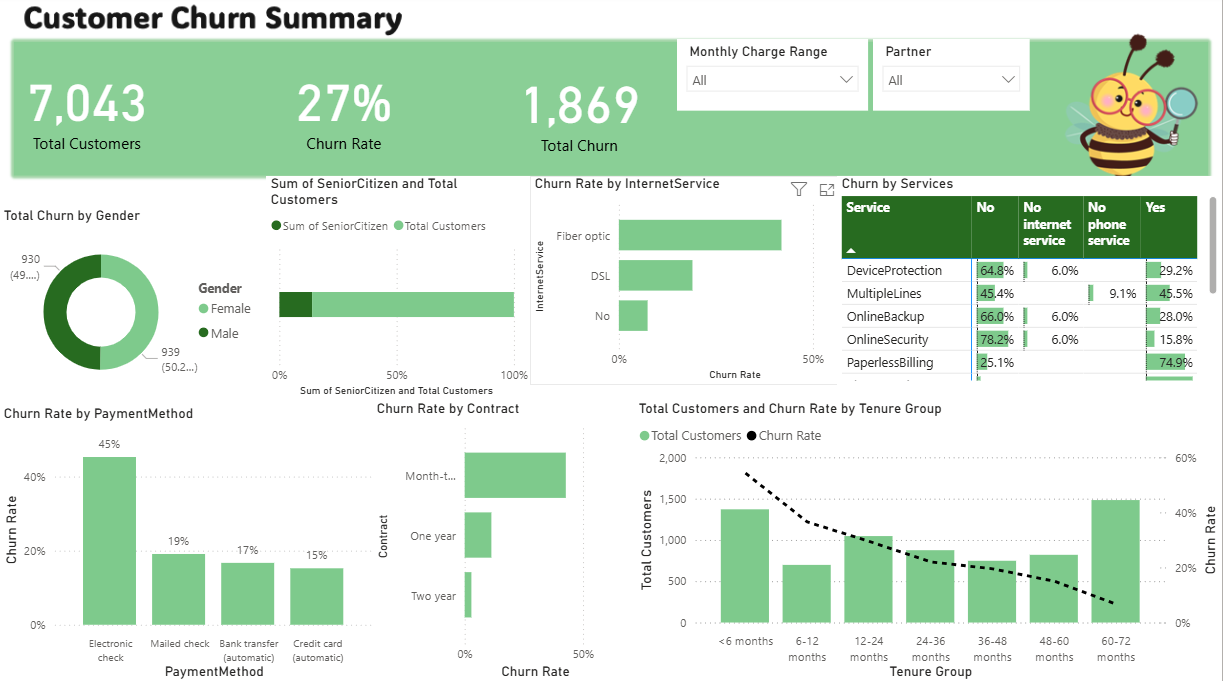

This screenshot's page, from the dashboard's own definition file:
{"tool":"powerbi","page":{"name":"Page 1","canvas":[1280,720],"ordinal":0},"visuals":[{"type":"card","fields":{"Values":["tbl_Measures.Total Churn"]},"box":[535.9,45,143.4,145.5],"z":0},{"type":"card","fields":{"Values":["tbl_Measures.Churn Rate"]},"box":[295.1,42.9,131.9,145.5],"z":1},{"type":"card","fields":{"Values":["tbl_Measures.Total Customers"]},"box":[12.6,42.9,159.1,145.5],"z":2},{"type":"donutChart","fields":{"Category":["Customer_Churn.gender"],"Y":["tbl_Measures.Total Churn"]},"box":[0,221.9,279.4,202],"z":3},{"type":"hundredPercentStackedBarChart","fields":{"Y":["Sum(Customer_Churn.SeniorCitizen)","tbl_Measures.Total Customers"]},"box":[279.4,188.4,279.4,235.5],"z":4},{"type":"clusteredColumnChart","fields":{"Y":["tbl_Measures.Churn Rate"],"Category":["Customer_Churn.PaymentMethod"]},"box":[0,429.1,396.7,291],"z":5},{"type":"clusteredBarChart","fields":{"Category":["Customer_Churn.Contract"],"Y":["tbl_Measures.Churn Rate"]},"box":[390.4,423.9,262.7,296.2],"z":6},{"type":"lineStackedColumnComboChart","fields":{"Category":["mapping_tenureGrp.Tenure Group"],"Y":["tbl_Measures.Total Customers"],"Y2":["tbl_Measures.Churn Rate"]},"box":[664.6,423.9,615.4,296.2],"z":7},{"type":"barChart","fields":{"Category":["Customer_Churn.InternetService"],"Y":["tbl_Measures.Churn Rate"]},"box":[555.7,188.4,353.8,218.7],"z":9},{"type":"pivotTable","title":"Churn by Services","fields":{"Rows":["Service_Customer.Service"],"Columns":["Service_Customer.Status"],"Values":["Sum(Service_Customer.Churn Status)"]},"box":[877.1,188.4,402.9,218.7],"z":10},{"type":"slicer","fields":{"Values":["Customer_Churn.Monthly Charge Range"]},"box":[709.6,45,199.9,75.4],"z":11},{"type":"slicer","fields":{"Values":["Customer_Churn.Partner"]},"box":[914.7,45,164.3,75.4],"z":12}]}

Visuals, with their boxes in screenshot pixels (x1, y1, x2, y2), scaled from the page's 1280x720 canvas onto the 1223x681 screenshot:
card - tbl_Measures.Total Churn: <box>512,43,649,180</box>
card - tbl_Measures.Churn Rate: <box>282,41,408,178</box>
card - tbl_Measures.Total Customers: <box>12,41,164,178</box>
donutChart - Customer_Churn.gender x tbl_Measures.Total Churn: <box>0,210,267,401</box>
hundredPercentStackedBarChart - Sum(Customer_Churn.SeniorCitizen) x tbl_Measures.Total Customers: <box>267,178,534,401</box>
clusteredColumnChart - tbl_Measures.Churn Rate x Customer_Churn.PaymentMethod: <box>0,406,379,680</box>
clusteredBarChart - Customer_Churn.Contract x tbl_Measures.Churn Rate: <box>373,401,624,680</box>
lineStackedColumnComboChart - mapping_tenureGrp.Tenure Group x tbl_Measures.Total Customers: <box>635,401,1222,680</box>
barChart - Customer_Churn.InternetService x tbl_Measures.Churn Rate: <box>531,178,869,385</box>
"Churn by Services" pivotTable: <box>838,178,1222,385</box>
slicer - Customer_Churn.Monthly Charge Range: <box>678,43,869,114</box>
slicer - Customer_Churn.Partner: <box>874,43,1031,114</box>
